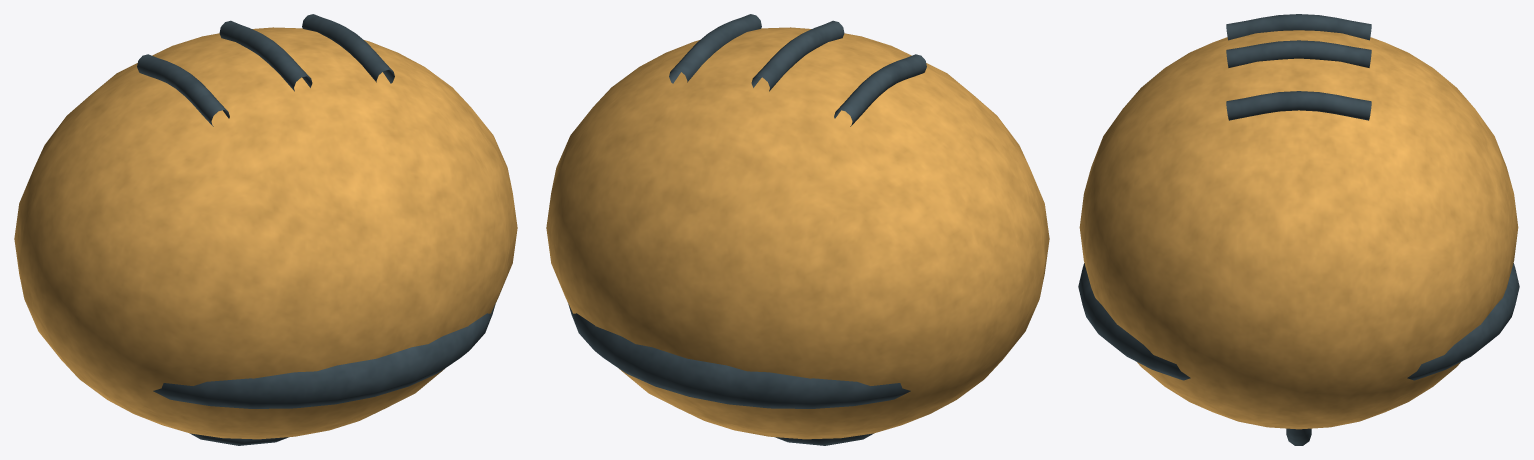
The model's file is helmet.glb.
3 renders of one model, left to right at view 1: azimuth 30°, elevation 25°; view 2: azimuth 150°, elevation 25°; view 3: azimuth 270°, elevation 25°, orthographic. The views are drawn at different scales.
Parts seen in each view (by area): view 1: helmet_textured_mesh; view 2: helmet_textured_mesh; view 3: helmet_textured_mesh.
Boxes of the visible parts, box(x1,y1,x2,y2) form: helmet_textured_mesh: box(14, 14, 517, 445); helmet_textured_mesh: box(546, 14, 1049, 445); helmet_textured_mesh: box(1078, 14, 1519, 445).
Bounding box in the file's own units: 1.74 × 1.5 × 1.55.
Materials: 1 (1 with a texture image).
